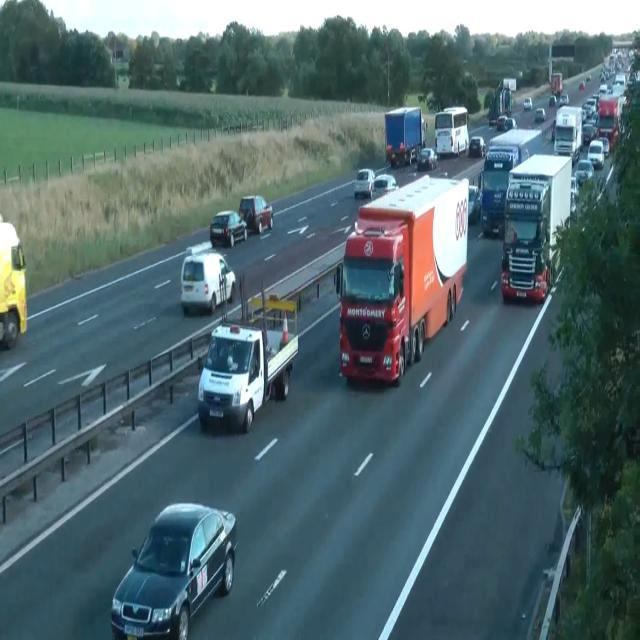bus: (210, 210, 248, 248), (371, 173, 398, 199), (353, 168, 375, 198), (574, 159, 594, 188), (417, 148, 438, 170), (468, 185, 480, 223), (570, 175, 579, 215), (469, 136, 485, 157), (581, 123, 595, 144), (598, 136, 610, 156), (503, 117, 517, 131), (496, 114, 507, 130), (534, 107, 546, 121), (558, 93, 568, 107), (523, 97, 532, 110), (549, 94, 557, 107), (551, 119, 555, 142), (488, 116, 496, 126), (579, 80, 585, 90), (586, 74, 591, 81)
jeep: (110, 501, 238, 638), (180, 249, 236, 315), (238, 194, 274, 234), (586, 139, 604, 168)
minibus: (334, 173, 469, 386), (197, 292, 299, 434), (501, 153, 572, 304), (480, 127, 545, 238), (479, 145, 519, 237), (0, 214, 27, 350), (384, 106, 427, 167), (434, 106, 470, 157), (553, 105, 583, 163), (488, 77, 514, 126), (550, 72, 562, 95), (502, 77, 516, 91)
